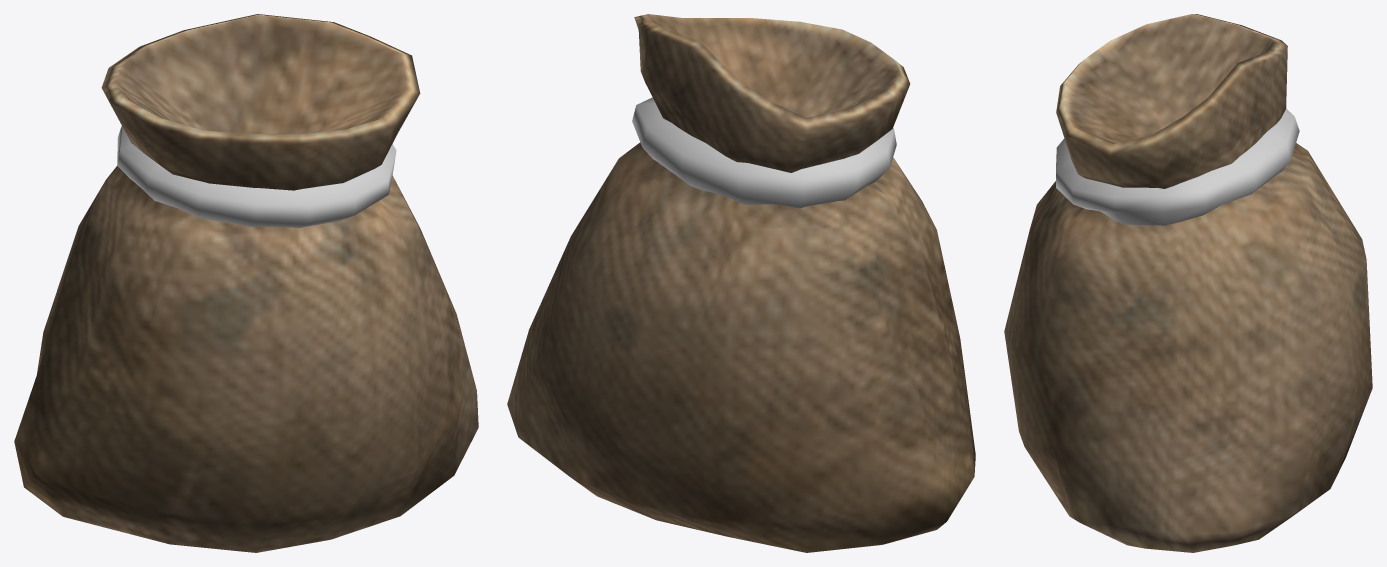
File: village_bag_07.fbx
3 renders of one model, left to right at view 1: azimuth 30°, elevation 25°; view 2: azimuth 150°, elevation 25°; view 3: azimuth 270°, elevation 25°, orthographic. The views are drawn at different scales.
Visible parts, largest first — view 1: village_bag_07; view 2: village_bag_07; view 3: village_bag_07.
Boxes of the visible parts, bbox=[...] form: village_bag_07: bbox=[14, 14, 478, 552]; village_bag_07: bbox=[507, 14, 975, 552]; village_bag_07: bbox=[1004, 14, 1372, 552].
Size of the model in its own units: 28.83 by 29.71 by 22.15.
